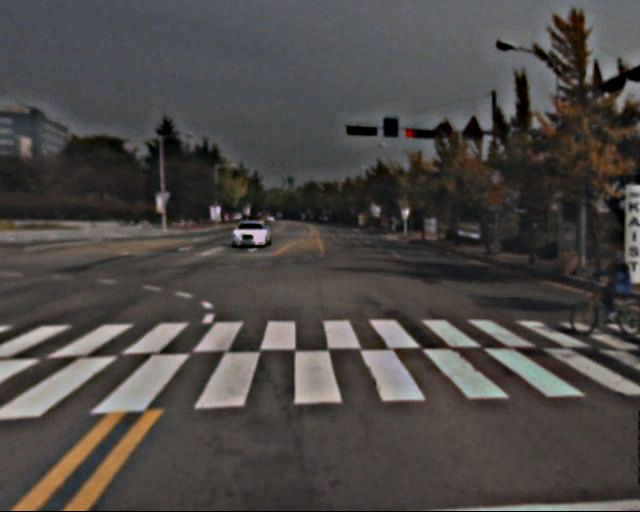person: (602, 247, 634, 325)
